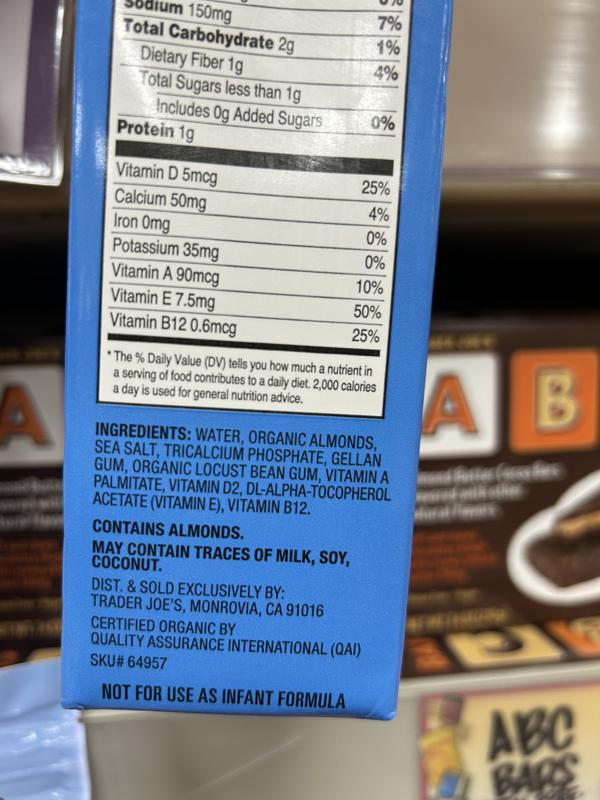ingredients: (91, 419, 392, 517)
